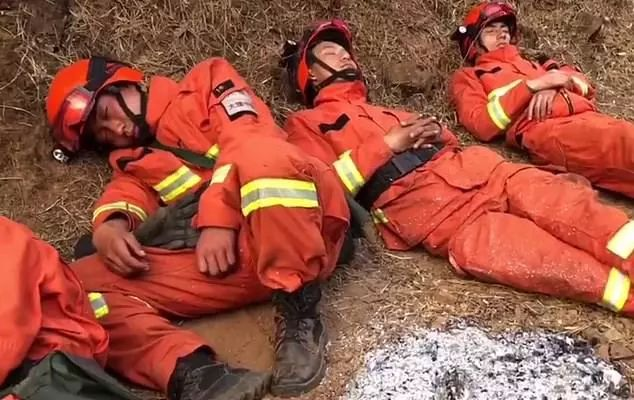fall: (454, 20, 626, 253)
